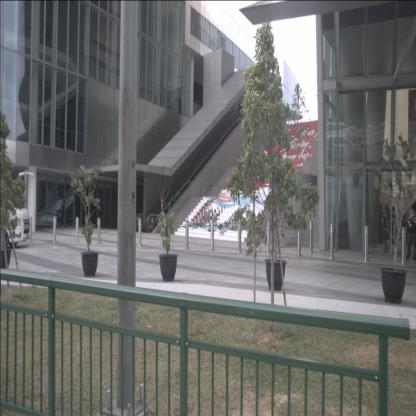human-pedestrian-adult: (404, 203, 416, 262)
vehicle-car: (0, 188, 30, 247)
